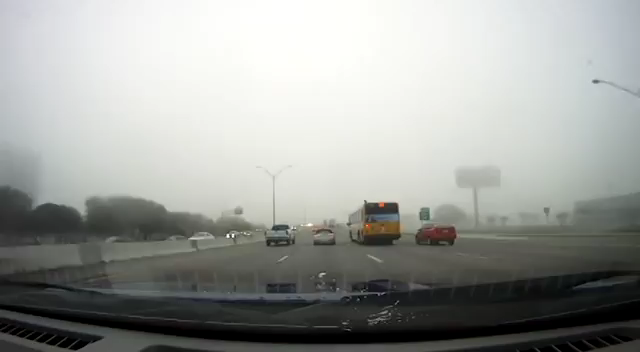bus: (346, 199, 401, 245)
car: (415, 222, 457, 246), (264, 224, 298, 246), (311, 228, 337, 246), (187, 231, 216, 246), (225, 230, 240, 240), (243, 230, 254, 238)
